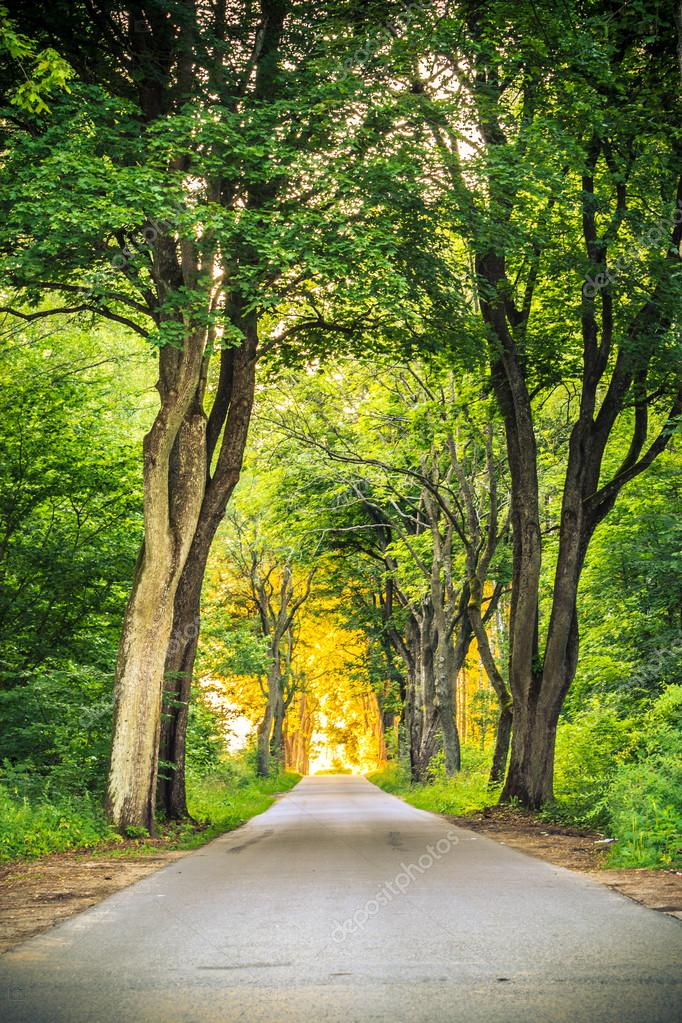Tree: (1, 1, 331, 868), (387, 1, 670, 813), (317, 199, 504, 784), (207, 433, 351, 781)
